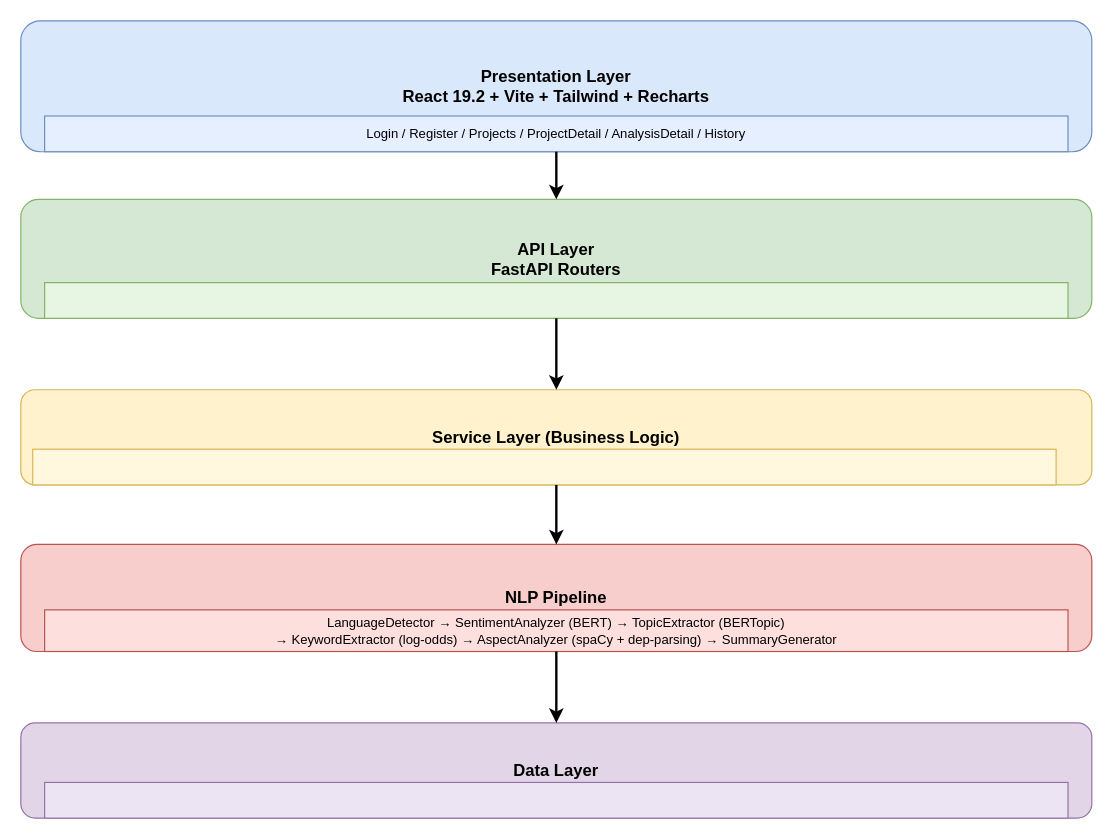
This 1113x839 diagram has some shape labels left out. The shapes that lost their labels are listed below. From the top down, each one's centre as x and y in pixels, then its label:
point (555, 299): me / projects / analyses / exports
point (544, 466): AnalysisService | ProjectService | StorageService | ExportService | AuthService
point (555, 799): Supabase (PostgreSQL + Auth + Storage + RLS)
